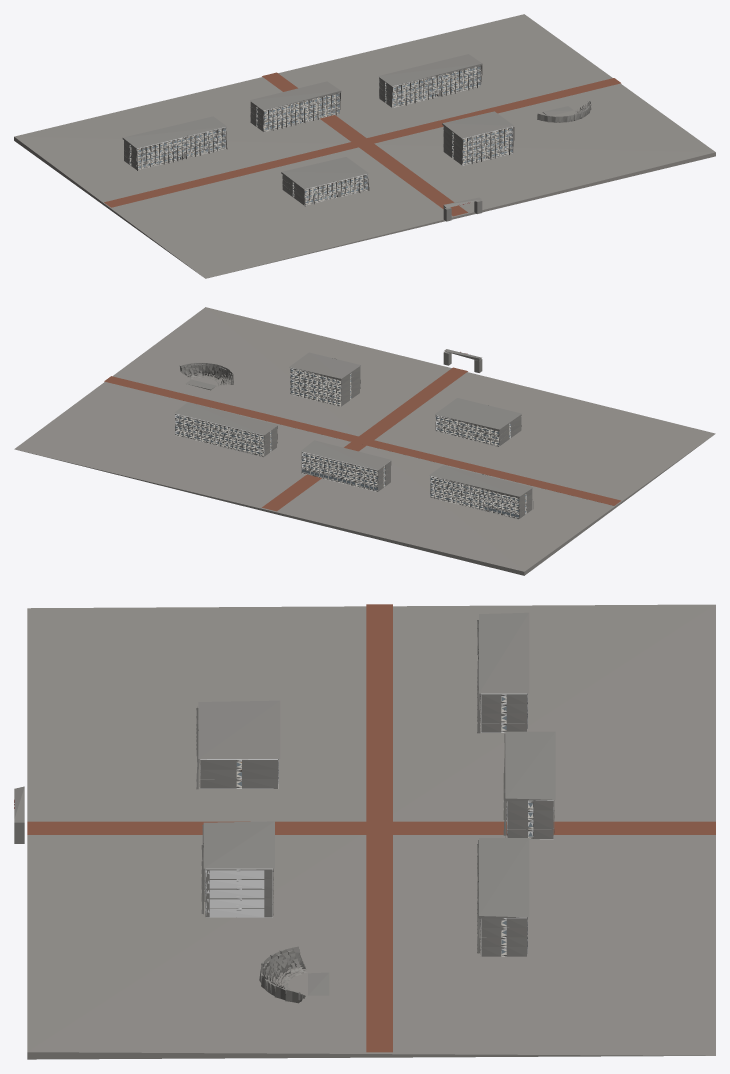
File: simge_universite.glb
3 renders of one model, top to bottom at view 1: azimuth 30°, elevation 25°; view 2: azimuth 150°, elevation 25°; view 3: azimuth 270°, elevation 25°, orthographic. The views are drawn at different scales.
Visible parts, largest first — view 1: Simge_Universite.001; view 2: Simge_Universite.001; view 3: Simge_Universite.001.
Boxes of the visible parts, x1=… form: Simge_Universite.001: x1=14, y1=14, x2=715, y2=278; Simge_Universite.001: x1=14, y1=307, x2=715, y2=575; Simge_Universite.001: x1=14, y1=604, x2=715, y2=1059.
Size of the model in its own units: 400 by 24.4 by 265.
